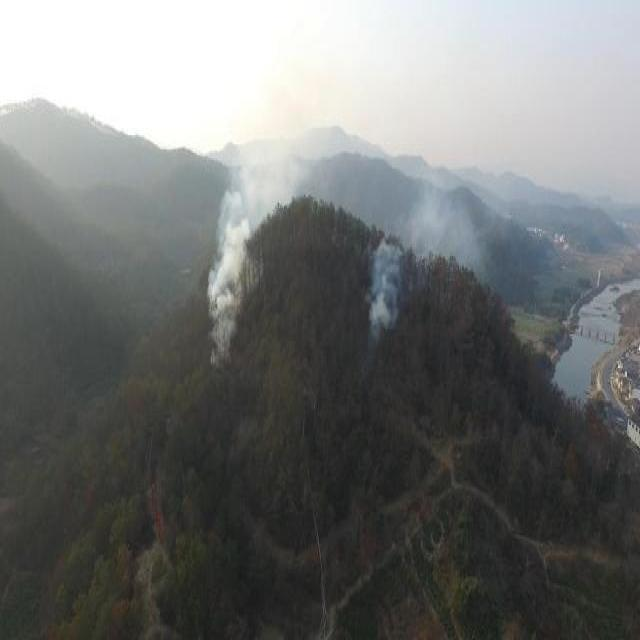Smoke: (204, 114, 315, 366), (366, 185, 487, 343)
